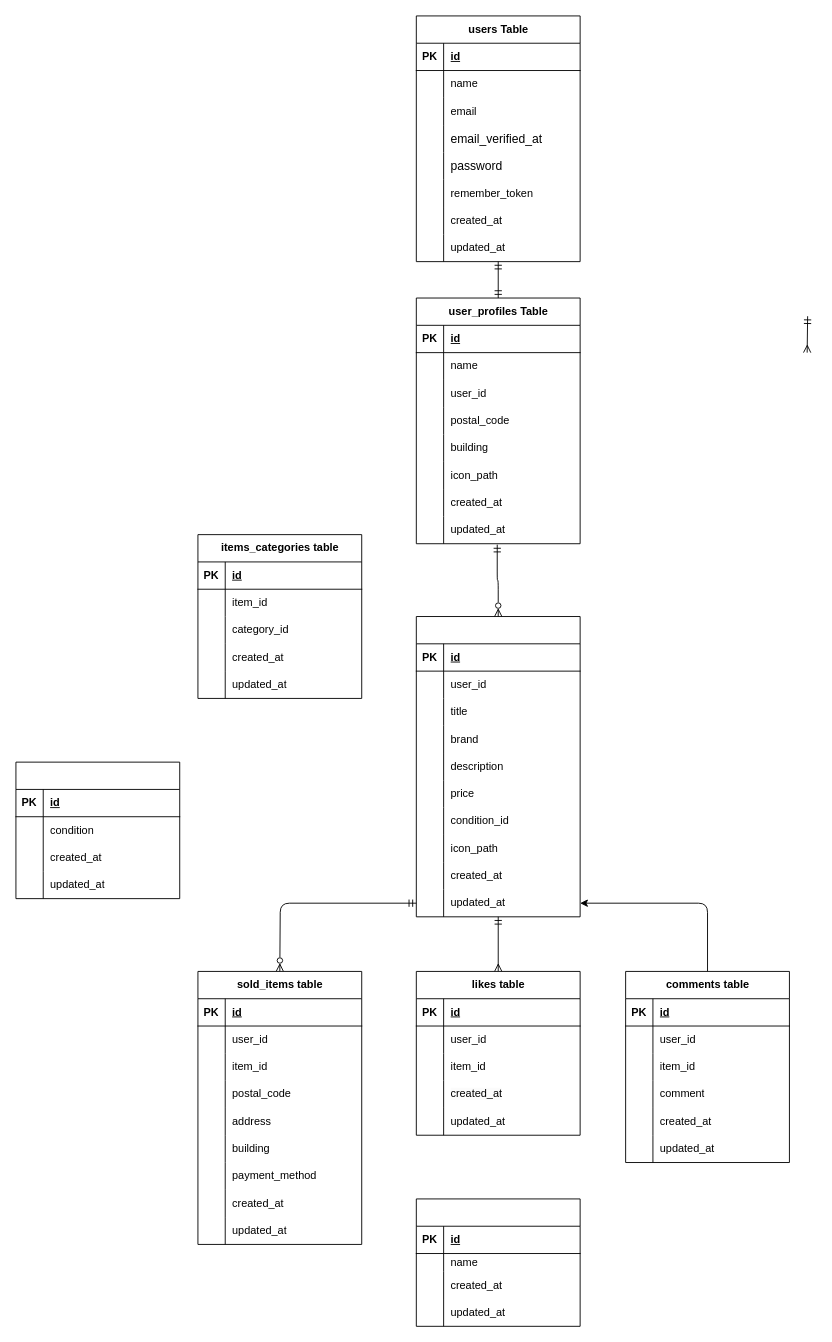
Image size: 832x1342. Some labels were removed from this diagram. Here are the shapes that lost their labels. From the top down, the box of each, then its label:
(415, 616, 580, 917): items table
(15, 761, 180, 899): conditions table
(415, 1198, 580, 1326): categories table
